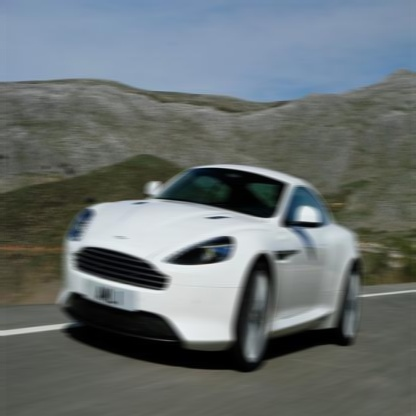Vehicle: (57, 160, 364, 374)
